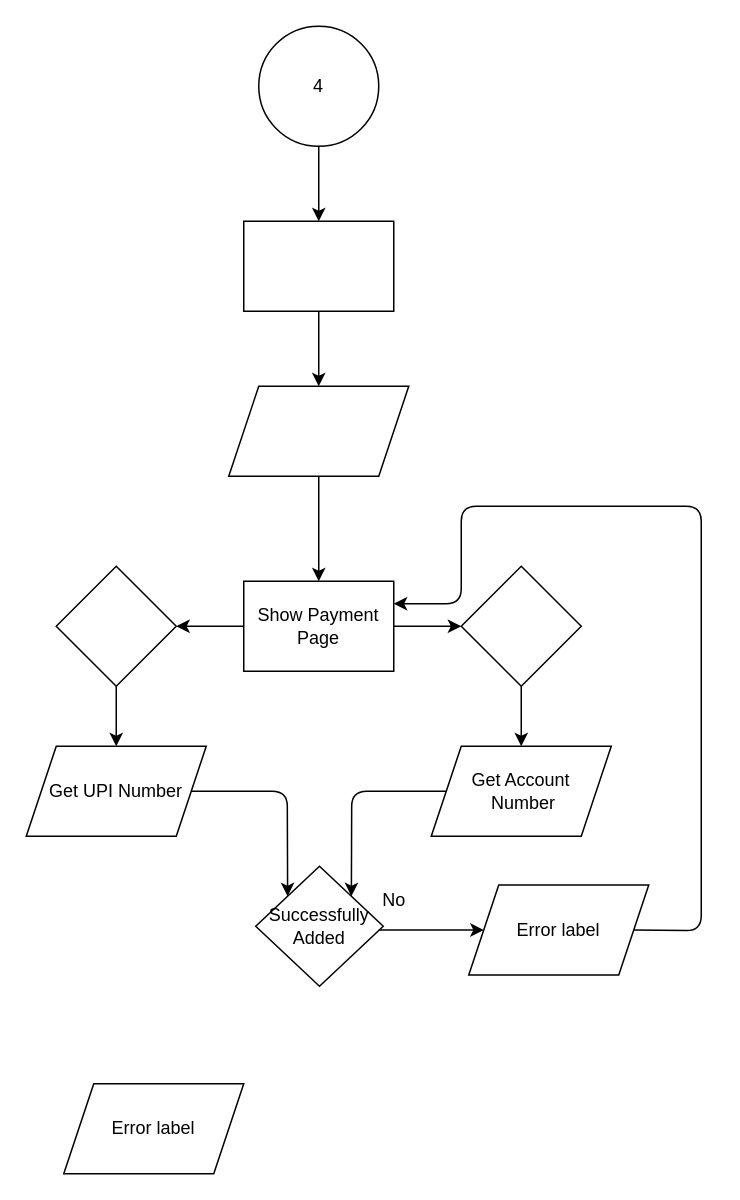
Image size: 740x1200. Some labels were removed from this diagram. Here are the shapes that lost their labels. From the top down, the centre of each, then its label:
At point 318,265: "Show Flight Search Page".
At point 318,430: "Show Available Flights".
At point 115,625: "UPI".
At point 520,625: "Net Banking".
